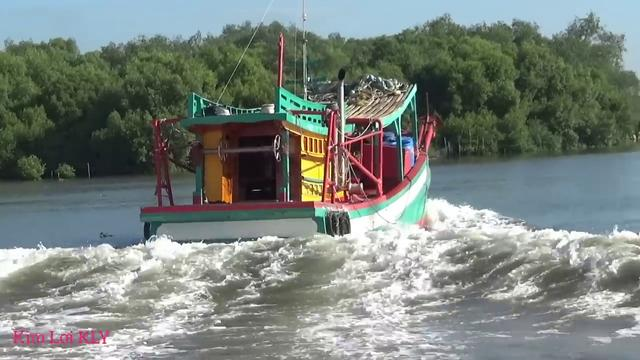Ship: (142, 47, 437, 257)
